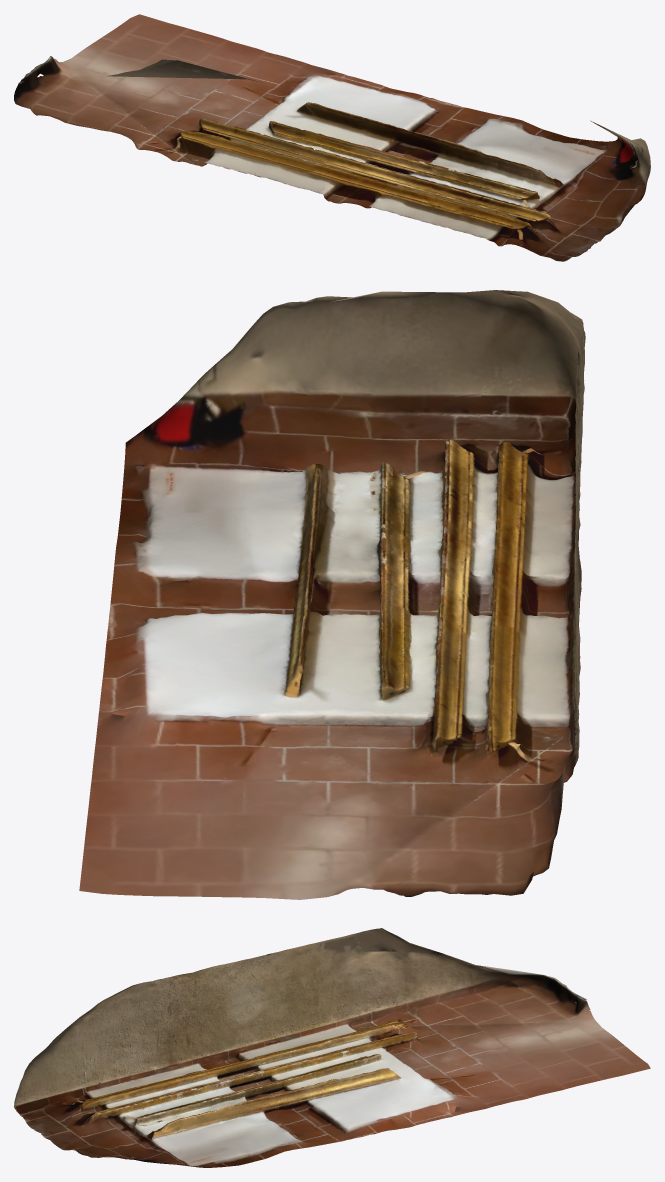
3 renders of one model, top to bottom at view 1: azimuth 30°, elevation 25°; view 2: azimuth 150°, elevation 25°; view 3: azimuth 270°, elevation 25°, orthographic. The views are drawn at different scales.
Parts seen in each view (by area): view 1: Node; view 2: Node; view 3: Node.
Boxes of the visible parts, x1,y1,x2,y2 form: Node: [14, 14, 650, 261]; Node: [79, 290, 585, 899]; Node: [14, 928, 650, 1167].
Size of the model in its own units: 3.92 by 1.01 by 5.78.
Materials: 1 (1 with a texture image).
